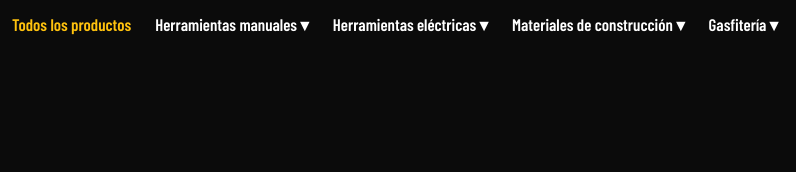
it: Componente MenuCategorias › al hacer clic en una categoría abre su submenú (estado) y al volver a hacer clic lo cierra
Later steps or results of the test are not shown.
Click the button with class "toggle-categoria" showing "Herramientas manuales ▾" at (232, 25), box x1=155 y1=12 x2=309 y2=37
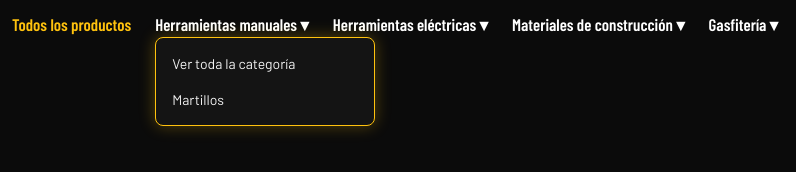
Expected: the button with class "toggle-categoria" is expanded, x1=155 y1=12 x2=309 y2=37
